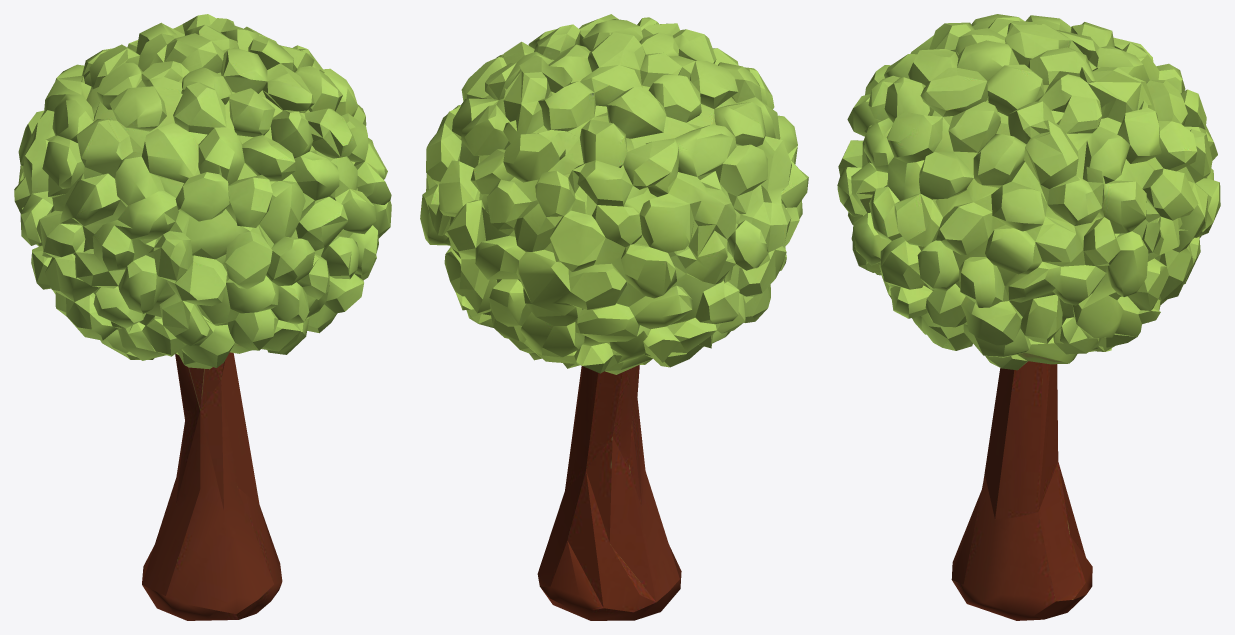
Rendered from tree-round.glb.
The picture shows the model from 3 angles, left to right: view 1: azimuth 30°, elevation 25°; view 2: azimuth 150°, elevation 25°; view 3: azimuth 270°, elevation 25°; orthographic projection.
Parts seen in each view (by area): view 1: mesh_node; view 2: mesh_node; view 3: mesh_node.
Part boxes in pixels (x1,y1,x2,y2): mesh_node: [14, 14, 391, 620]; mesh_node: [420, 14, 808, 620]; mesh_node: [837, 14, 1220, 620].
Bounding box in the file's own units: 1.17 × 1.9 × 1.17.
Materials: 1 (1 with a texture image).
